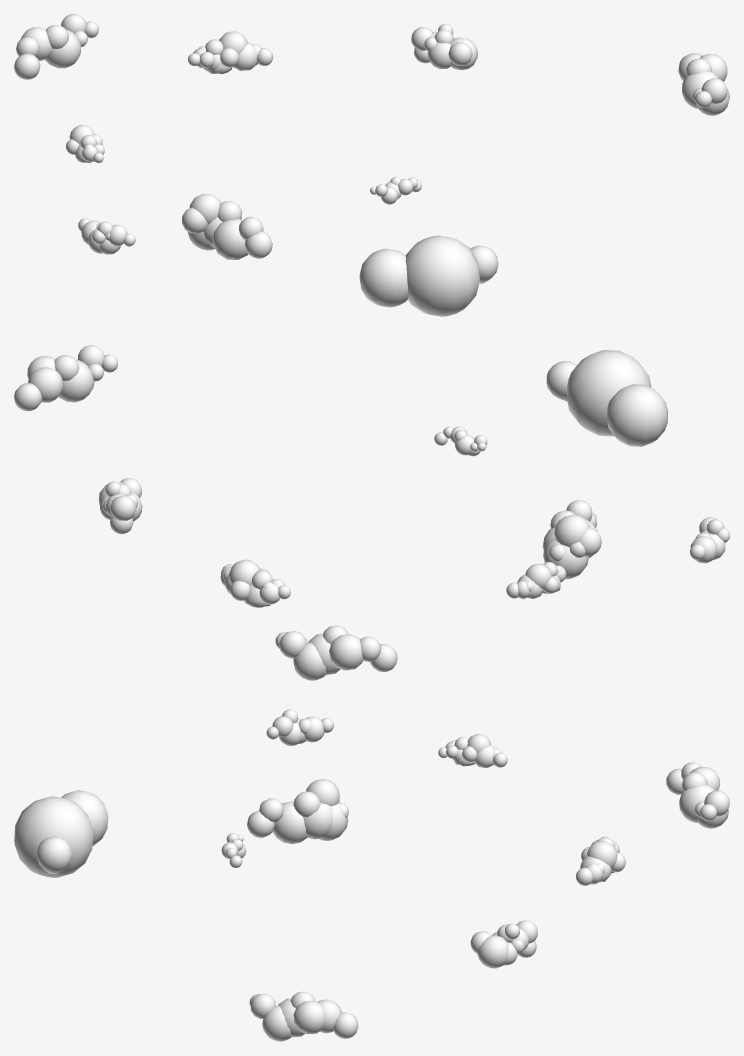
File: clouds_small.glb
3 views of the same model, one above another, from view 1: azimuth 30°, elevation 25°; view 2: azimuth 150°, elevation 25°; view 3: azimuth 270°, elevation 25° (orthographic). The views are drawn at different scales.
Visible parts, largest first — view 1: Sphere.003; view 2: Sphere.003; view 3: Sphere.003.
Boxes of the visible parts, left/top/right/bottom form: Sphere.003: left=14, top=14, right=729, bottom=316; Sphere.003: left=14, top=345, right=729, bottom=680; Sphere.003: left=14, top=709, right=729, bottom=1041.
Size of the model in its own units: 26.18 by 3.33 by 25.19.
Materials: 1 (1 with a texture image).
